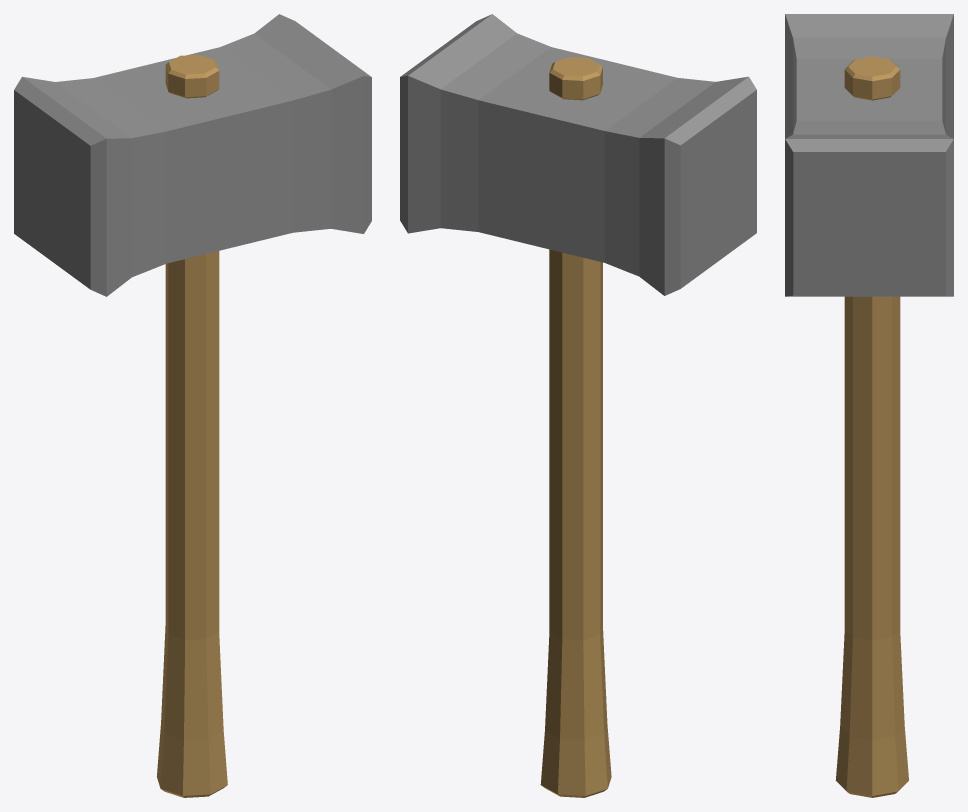
Rendered from Hammer.fbx.
The picture shows the model from 3 angles, left to right: view 1: azimuth 30°, elevation 25°; view 2: azimuth 150°, elevation 25°; view 3: azimuth 270°, elevation 25°; orthographic projection.
Visible parts, largest first — view 1: Hammer; view 2: Hammer; view 3: Hammer.
Part boxes in pixels (<box>): Hammer: <box>14,14,371,797</box>; Hammer: <box>400,14,756,797</box>; Hammer: <box>785,14,953,797</box>.
Bounding box in the file's own units: 0.2492 × 0.6095 × 0.1298.
